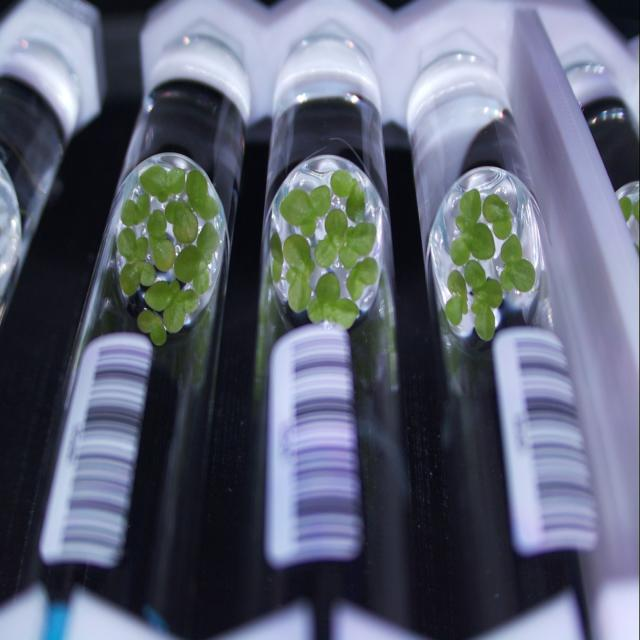Lemna-Gibba: (314, 208, 376, 269), (450, 188, 495, 265), (464, 260, 502, 340), (308, 272, 359, 329), (145, 280, 199, 332), (280, 185, 331, 237), (118, 227, 156, 295), (282, 233, 314, 312), (500, 233, 535, 292), (330, 170, 365, 222), (185, 168, 219, 220), (174, 245, 209, 294), (139, 165, 185, 202), (148, 210, 175, 272), (165, 200, 199, 243), (482, 193, 512, 240), (348, 257, 379, 300), (445, 270, 468, 325), (120, 193, 150, 227), (138, 310, 166, 345), (196, 222, 219, 262), (270, 232, 284, 282)
